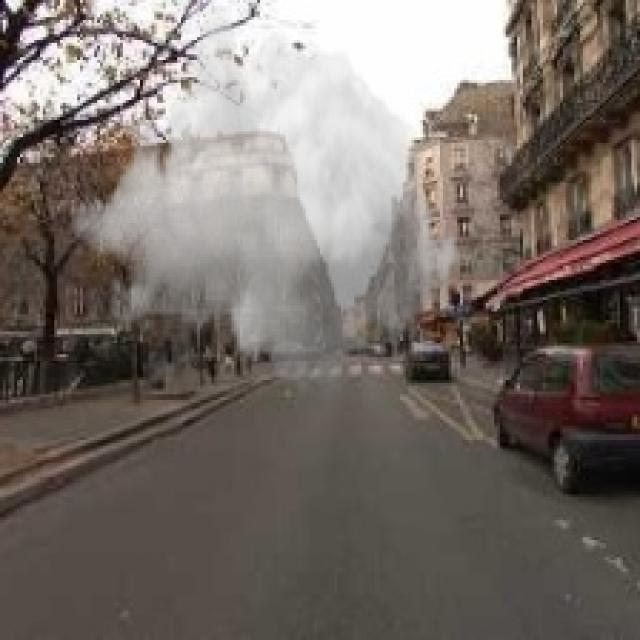smoke: (68, 6, 466, 403)
